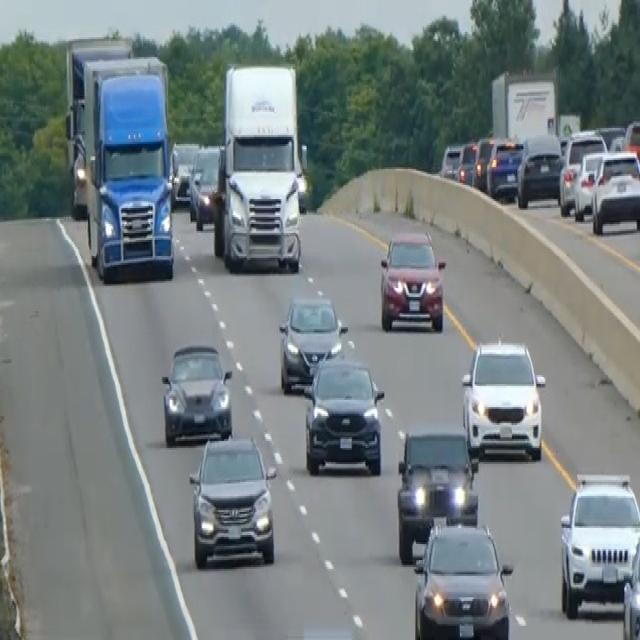car: (412, 516, 513, 638), (188, 432, 277, 569), (558, 469, 639, 619), (395, 426, 479, 562), (460, 334, 546, 460), (302, 354, 384, 476), (160, 342, 233, 446), (277, 291, 347, 393), (378, 228, 446, 332), (590, 148, 639, 235), (558, 128, 607, 215), (516, 132, 563, 208), (188, 144, 220, 229), (486, 135, 523, 199), (621, 524, 639, 638), (169, 138, 198, 204), (472, 134, 495, 188), (456, 138, 479, 186), (439, 140, 463, 182), (622, 117, 639, 176)
lorry: (64, 34, 176, 282), (212, 60, 306, 274)
